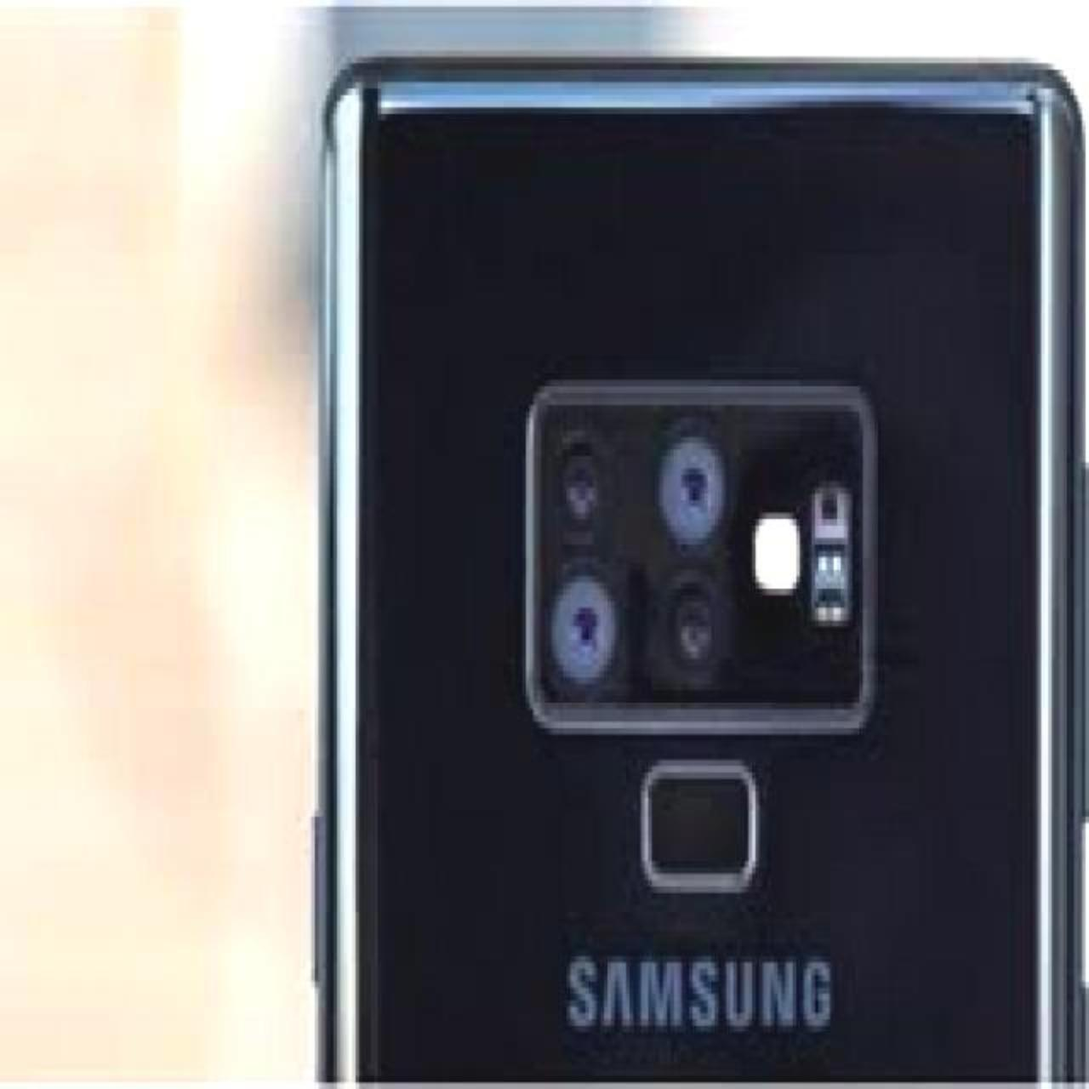phone: (320, 43, 1086, 1089)
